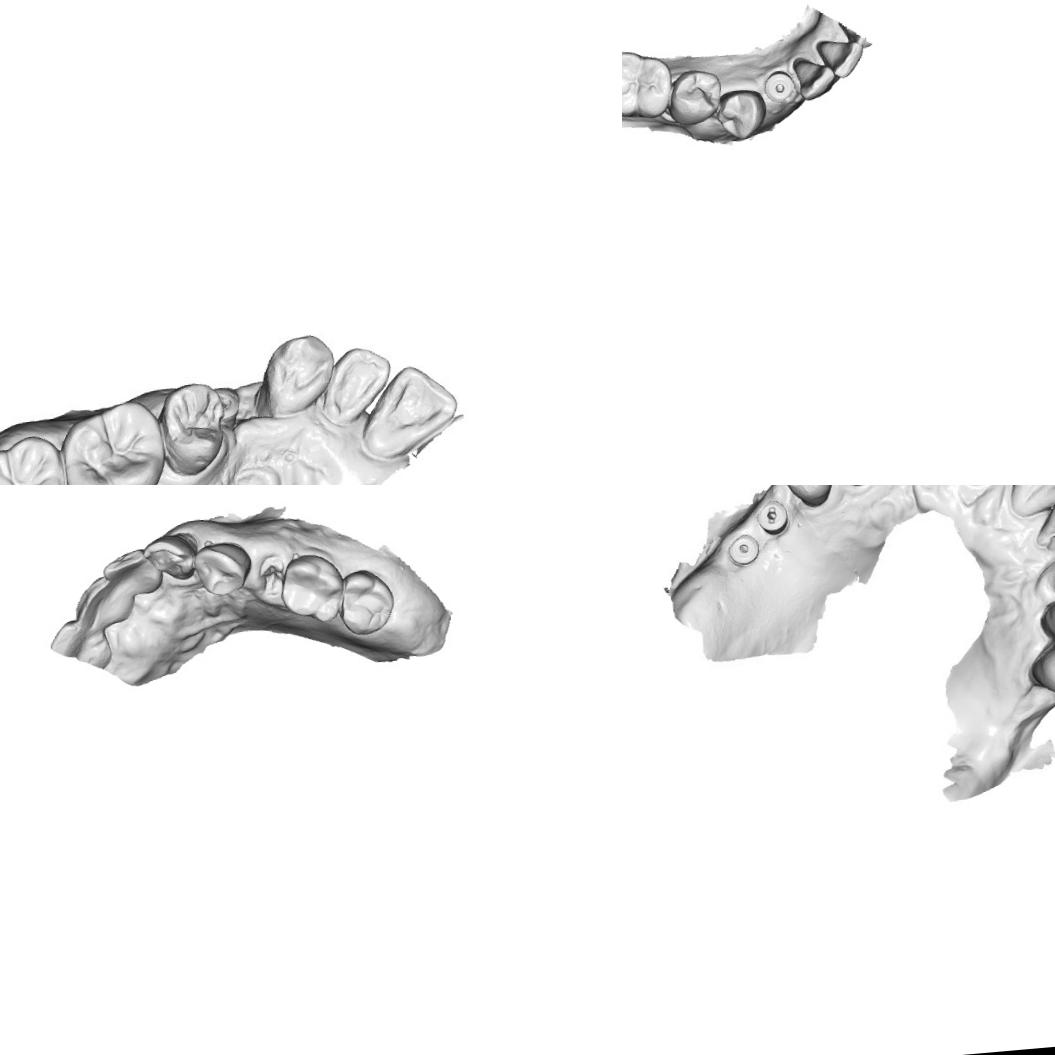canine: (247, 329, 341, 423), (137, 528, 199, 585)
implant: (724, 528, 762, 568), (761, 68, 796, 107)
implant_minus: (753, 497, 791, 537)
incisor: (353, 358, 464, 466), (315, 341, 397, 428), (47, 614, 113, 672), (70, 573, 136, 630), (99, 545, 164, 600), (790, 52, 837, 101), (815, 35, 866, 80), (1029, 485, 1055, 554), (1003, 485, 1055, 517)
molar: (60, 401, 163, 485), (274, 550, 348, 627), (334, 565, 398, 638), (622, 43, 673, 123), (0, 434, 69, 485)
premolar: (158, 374, 234, 472), (191, 538, 254, 598), (668, 66, 724, 126), (714, 85, 768, 141), (1027, 637, 1055, 707), (769, 485, 837, 511), (1036, 588, 1055, 655)
